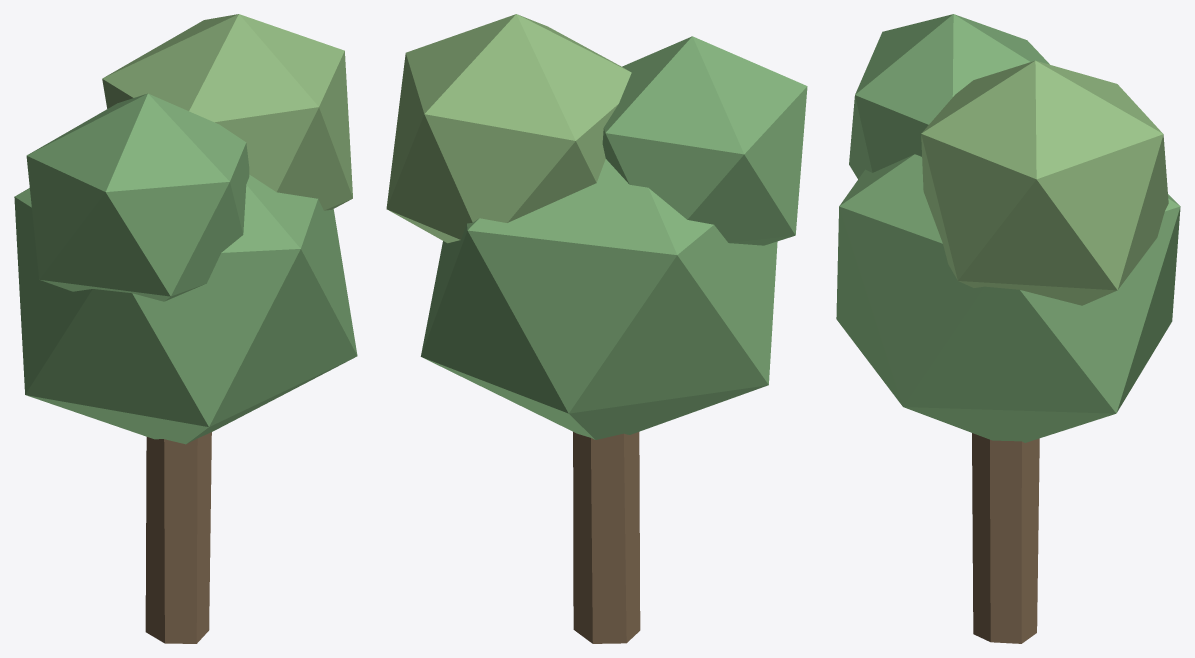
Rendered from tree.fbx.
3 views of the same model, side by side, from view 1: azimuth 30°, elevation 25°; view 2: azimuth 150°, elevation 25°; view 3: azimuth 270°, elevation 25° (orthographic). The views are drawn at different scales.
Parts seen in each view (by area): view 1: Tree; view 2: Tree; view 3: Tree.
Part boxes in pixels (bbox=[...]): Tree: bbox=[14, 14, 357, 643]; Tree: bbox=[386, 14, 807, 643]; Tree: bbox=[836, 14, 1180, 643].
Bounding box in the file's own units: 1.72 × 2.84 × 1.45.
